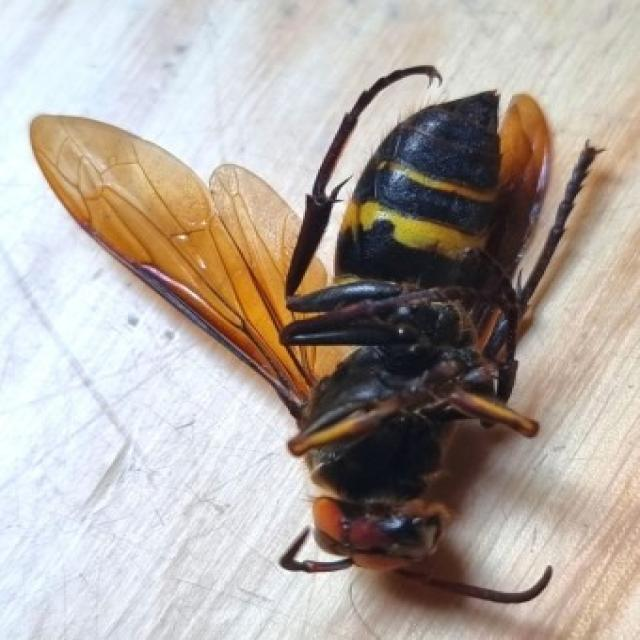Wasp: (18, 63, 606, 608)
